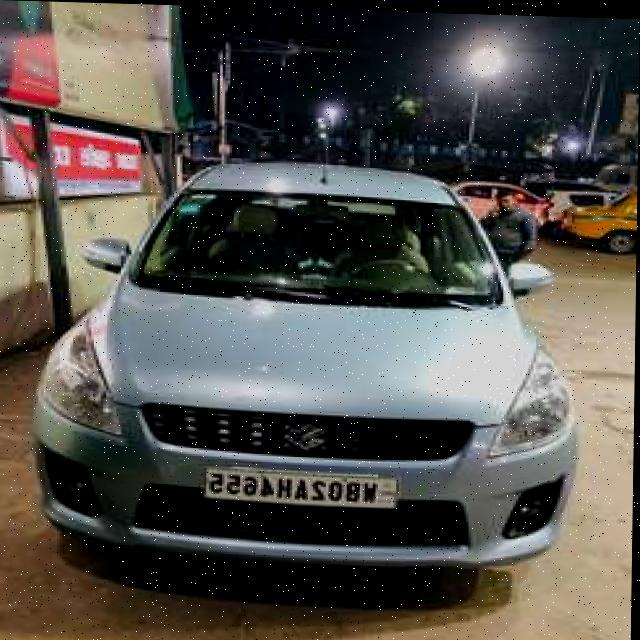plate: (201, 465, 401, 507)
